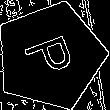P_E: (19, 30, 81, 82)
